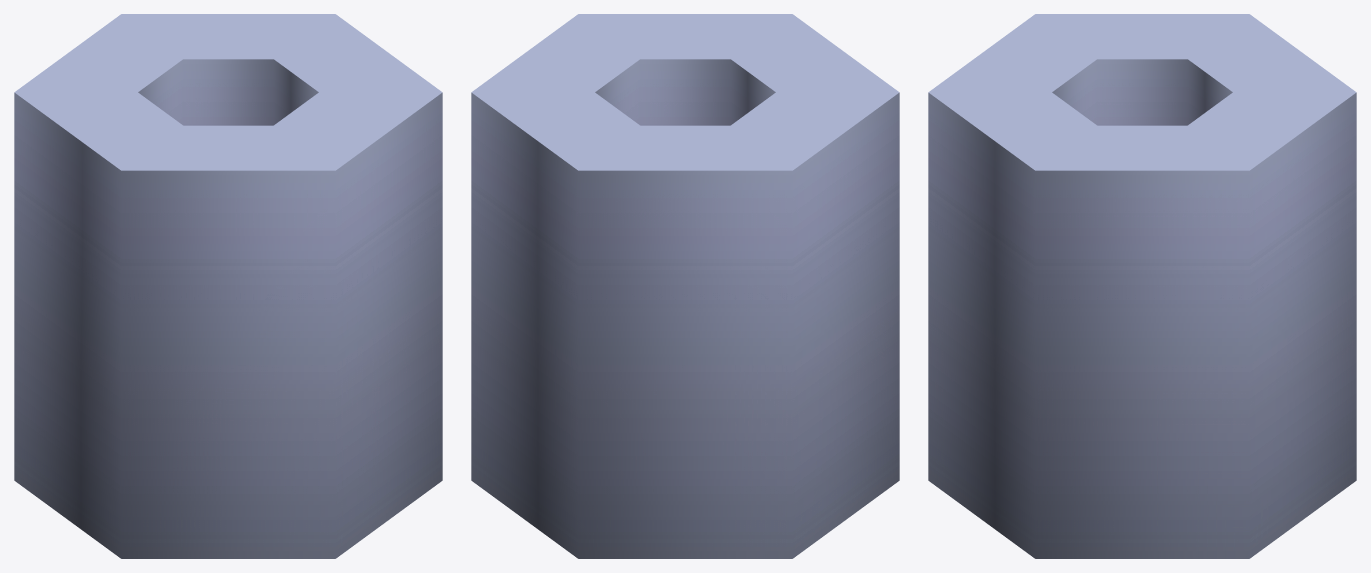
Rendered from shape-hollow-hexagon.glb.
The picture shows the model from 3 angles, left to right: view 1: azimuth 30°, elevation 25°; view 2: azimuth 150°, elevation 25°; view 3: azimuth 270°, elevation 25°; orthographic projection.
Parts seen in each view (by area): view 1: shape-hollow-hexagon; view 2: shape-hollow-hexagon; view 3: shape-hollow-hexagon.
Boxes of the visible parts, left/top/right/bottom form: shape-hollow-hexagon: left=14, top=14, right=442, bottom=558; shape-hollow-hexagon: left=471, top=14, right=899, bottom=558; shape-hollow-hexagon: left=928, top=14, right=1356, bottom=558.
Bounding box in the file's own units: 0.866 × 1 × 1.
Materials: 1 (1 with a texture image).
